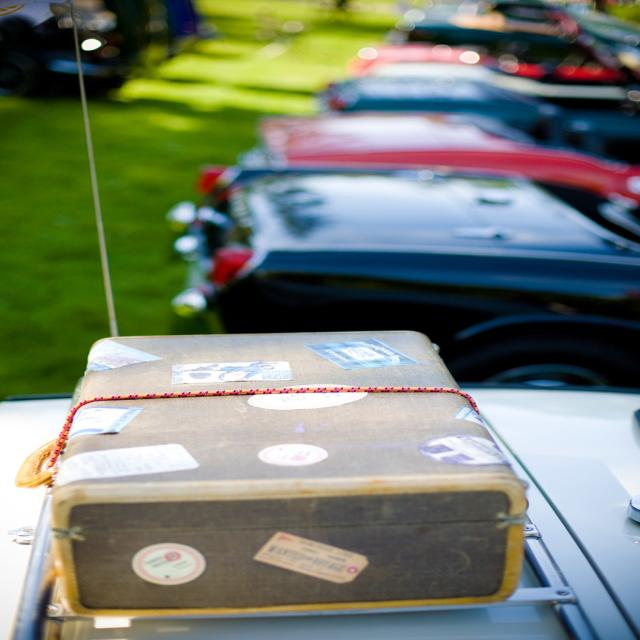car: (153, 167, 638, 391)
